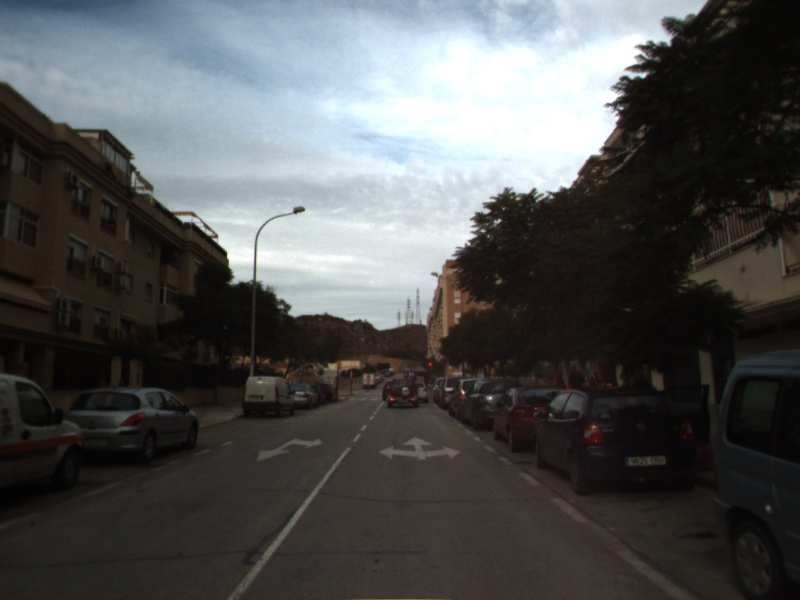STRAIGHT_LEFT_RIGHT: (376, 434, 462, 462)
